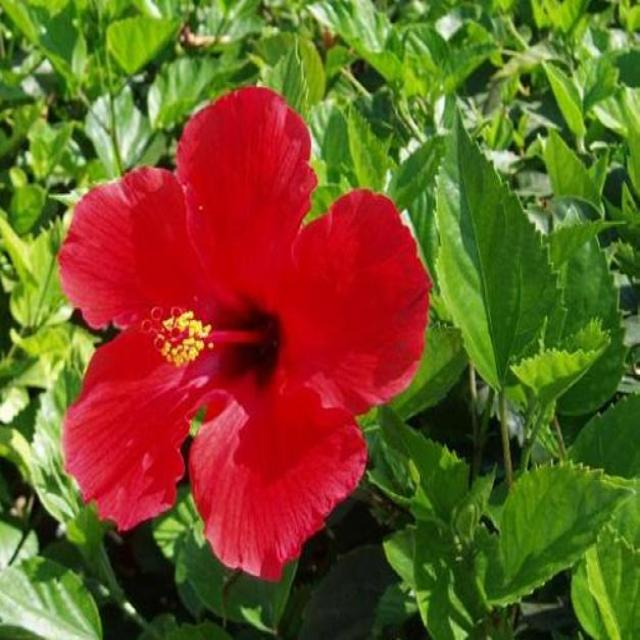hibiscus: (36, 71, 468, 597)
